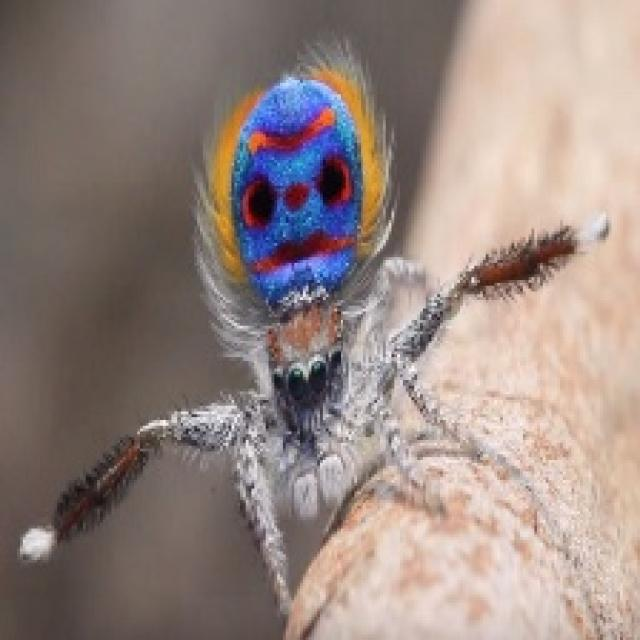Non venomous spider: (22, 34, 610, 604)
